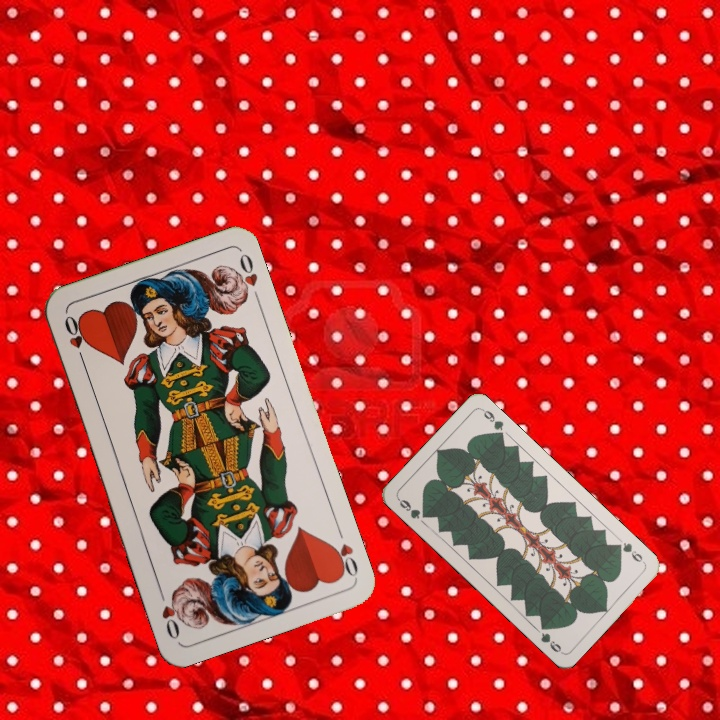G9: (394, 494, 431, 522), (611, 538, 648, 566)
HO: (326, 523, 361, 580), (60, 311, 88, 368)
